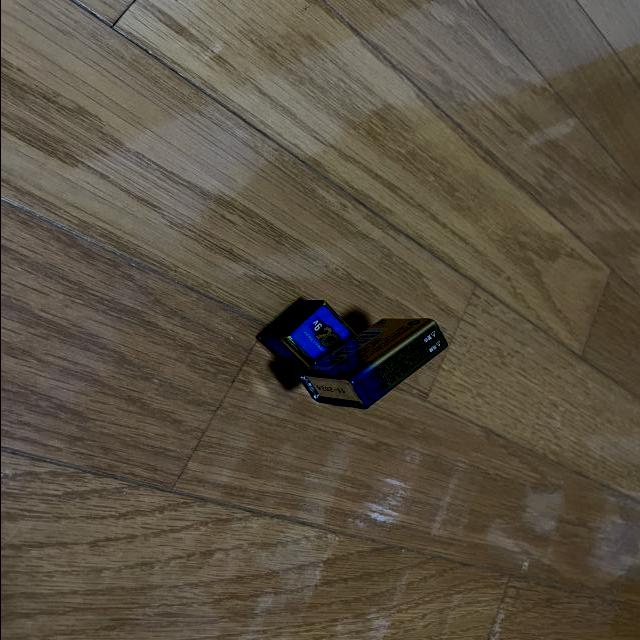9V: (295, 319, 446, 410), (254, 301, 359, 380)
